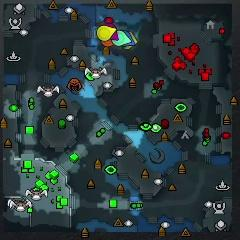p1: (123, 30, 134, 45)
p2: (111, 30, 130, 46)
p3: (103, 23, 118, 41)
p4: (97, 26, 116, 40)
p5: (100, 39, 114, 46)
x2: (125, 32, 137, 49)
